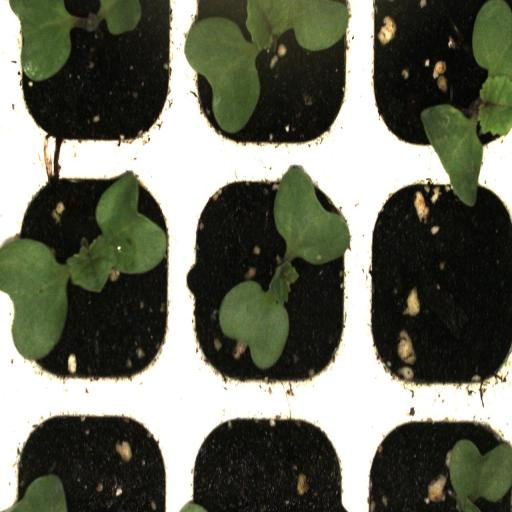Folha: (10, 0, 76, 82), (448, 439, 512, 512), (9, 473, 68, 512)
Germinacao: (178, 160, 358, 398), (0, 156, 182, 390), (188, 0, 359, 156), (357, 0, 512, 158)
